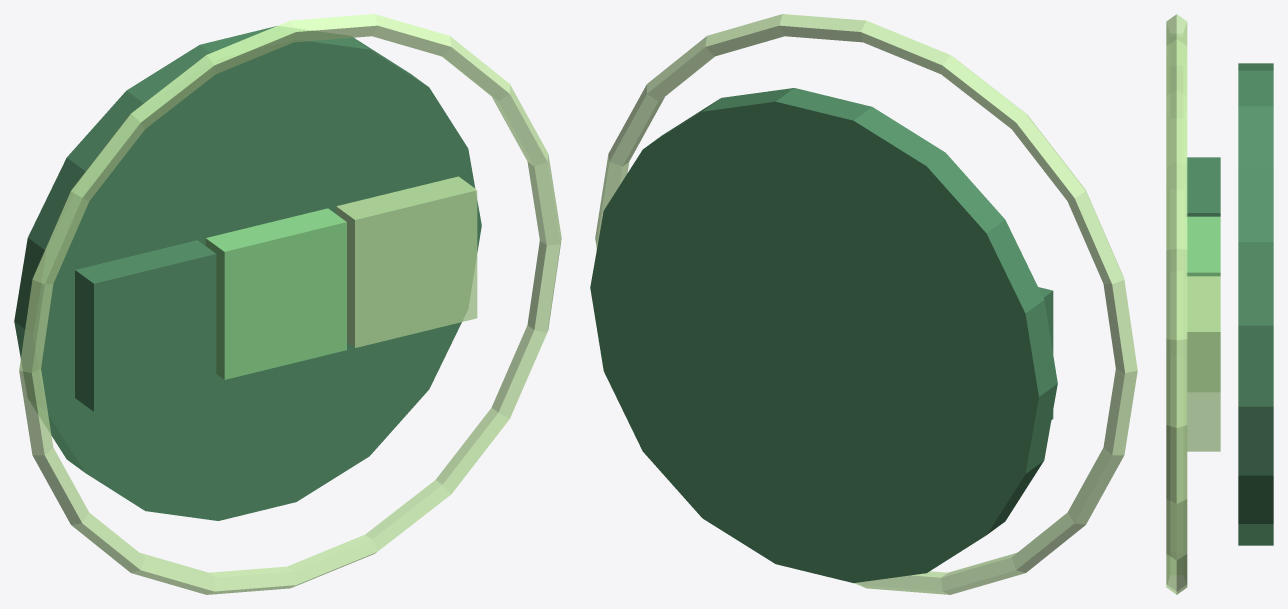
The model's file is 02_biome_recolor_overlay_2.glb.
3 views of the same model, side by side, from view 1: azimuth 30°, elevation 25°; view 2: azimuth 150°, elevation 25°; view 3: azimuth 270°, elevation 25° (orthographic). The views are drawn at different scales.
Parts seen in each view (by area): view 1: palette_base, recolor_ring, swatch_base, swatch_accent, swatch_glow; view 2: palette_base, recolor_ring; view 3: palette_base, recolor_ring, swatch_glow, swatch_accent, swatch_base.
Boxes of the visible parts, bbox=[...] form: palette_base: bbox=[14, 26, 481, 520]; recolor_ring: bbox=[19, 14, 561, 594]; swatch_base: bbox=[75, 240, 216, 411]; swatch_accent: bbox=[205, 208, 346, 379]; swatch_glow: bbox=[336, 176, 477, 347]; palette_base: bbox=[590, 88, 1057, 583]; recolor_ring: bbox=[595, 14, 1137, 594]; palette_base: bbox=[1238, 63, 1273, 545]; recolor_ring: bbox=[1166, 14, 1187, 594]; swatch_glow: bbox=[1187, 276, 1220, 451]; swatch_accent: bbox=[1186, 216, 1220, 391]; swatch_base: bbox=[1186, 157, 1220, 216].
Bounding box in the file's own units: 1.33 × 1.33 × 0.2438.
